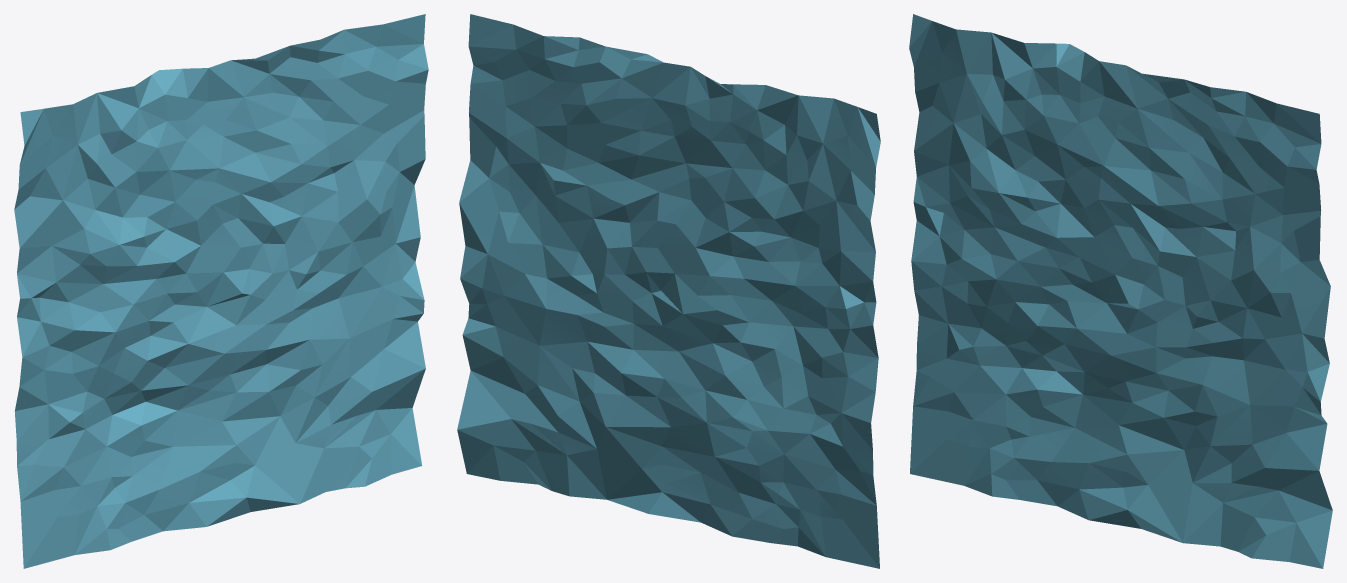
The model's file is woda001.glb.
3 renders of one model, left to right at view 1: azimuth 30°, elevation 25°; view 2: azimuth 150°, elevation 25°; view 3: azimuth 330°, elevation 25°, orthographic.
Visible parts, largest first — view 1: woda001; view 2: woda001; view 3: woda001.
Part boxes in pixels (x1,y1,x2,y2): woda001: (14,14,428,568); woda001: (457,14,880,568); woda001: (909,14,1332,568).
Bounding box in the file's own units: 343 × 369 × 28.18.
